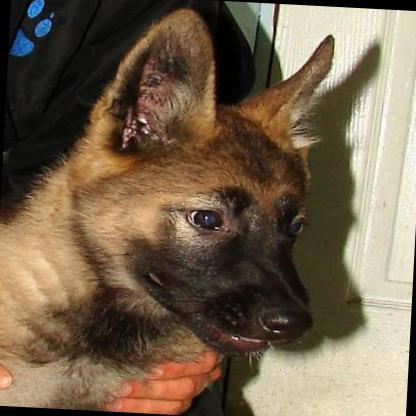malinois: (0, 0, 334, 416)
